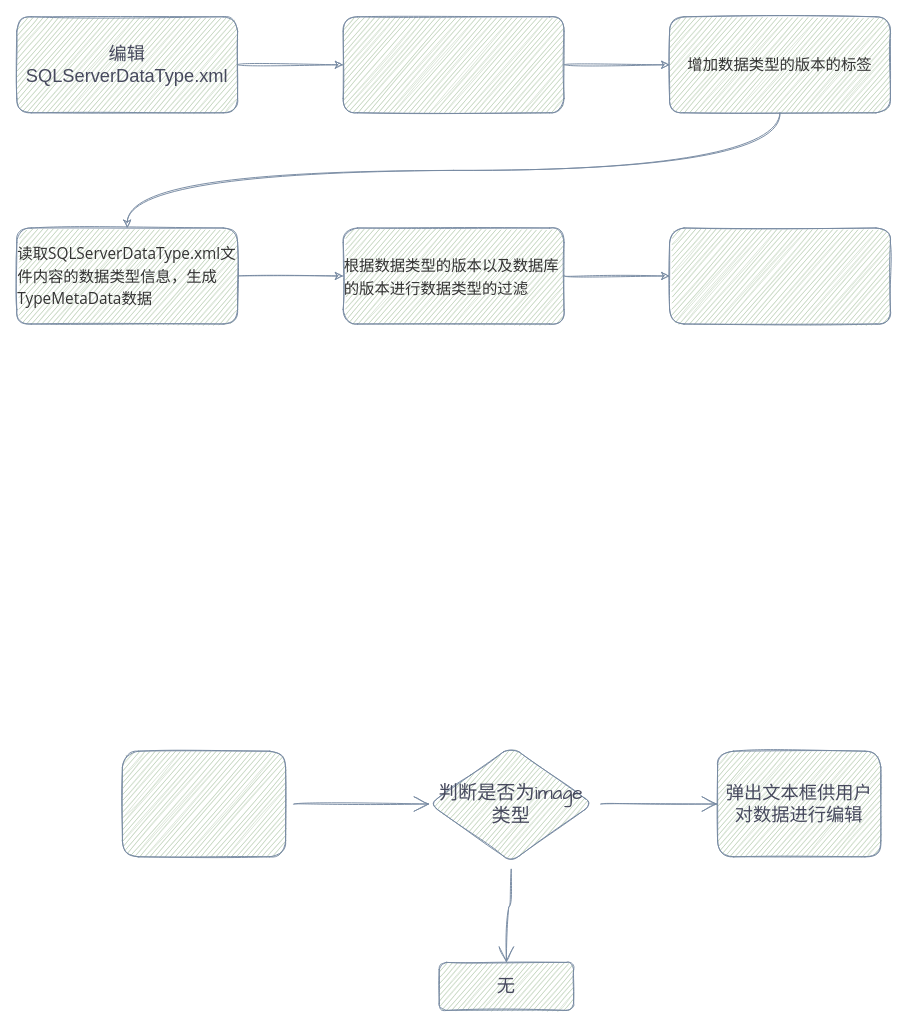
Image size: 907x1027. Some labels were removed from this diagram. The centre of each missing label's shape, as x and y in pixels:
形成兼容的类型数据: the point at 779,275
添加 image，datetime，datetime2 数据类型: the point at 453,64
监听用户双击SQL执行结果表格事件: the point at 203,803
